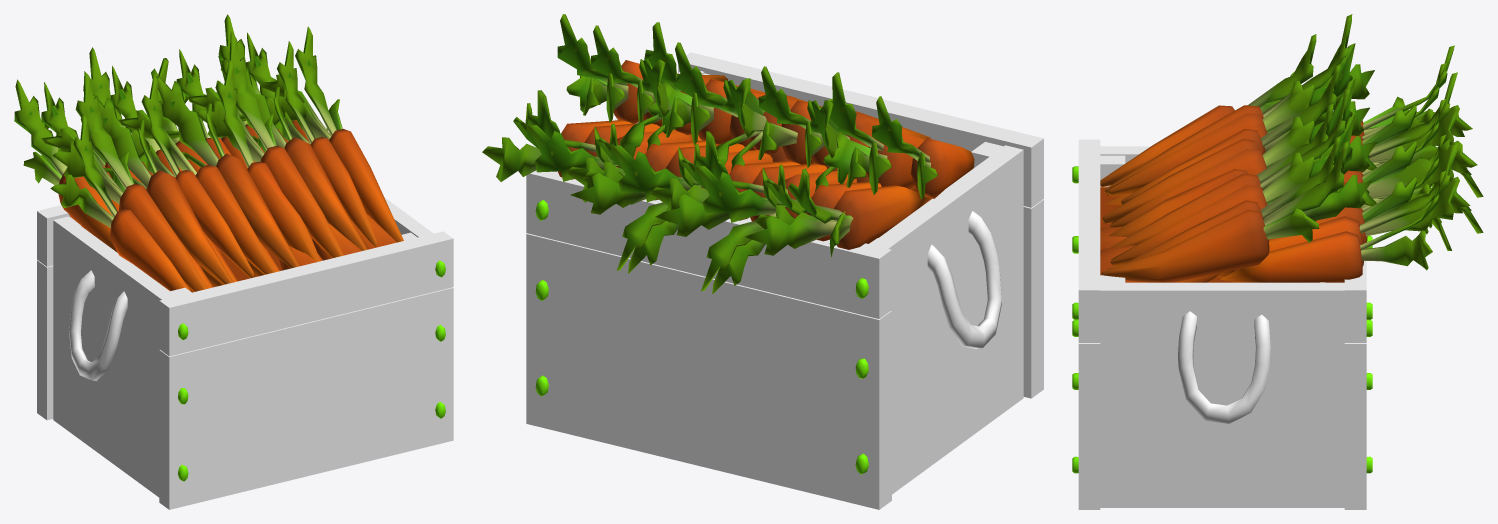
The model's file is carrot_crate.glb.
The picture shows the model from 3 angles, left to right: view 1: azimuth 30°, elevation 25°; view 2: azimuth 150°, elevation 25°; view 3: azimuth 270°, elevation 25°; orthographic projection. The views are drawn at different scales.
Visible parts, largest first — view 1: FarmCrate_Carrot; view 2: FarmCrate_Carrot; view 3: FarmCrate_Carrot.
Part boxes in pixels (box(x1,y1,x2,y2)): FarmCrate_Carrot: box(14, 14, 453, 509); FarmCrate_Carrot: box(482, 14, 1043, 509); FarmCrate_Carrot: box(1072, 14, 1483, 509).
Size of the model in its own units: 1 by 1 by 1.
